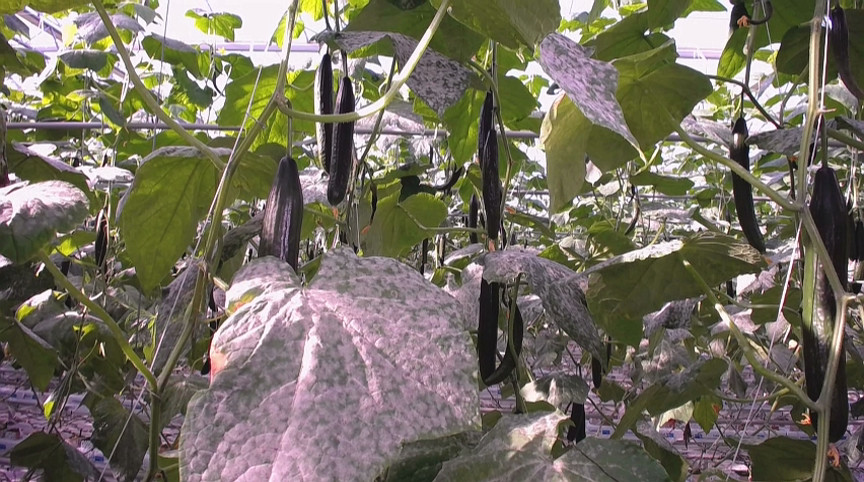cucumber: (804, 168, 849, 440), (259, 159, 304, 266), (731, 122, 767, 255), (328, 81, 358, 206), (490, 305, 523, 385), (481, 132, 500, 240), (315, 54, 332, 172), (477, 276, 497, 375)
